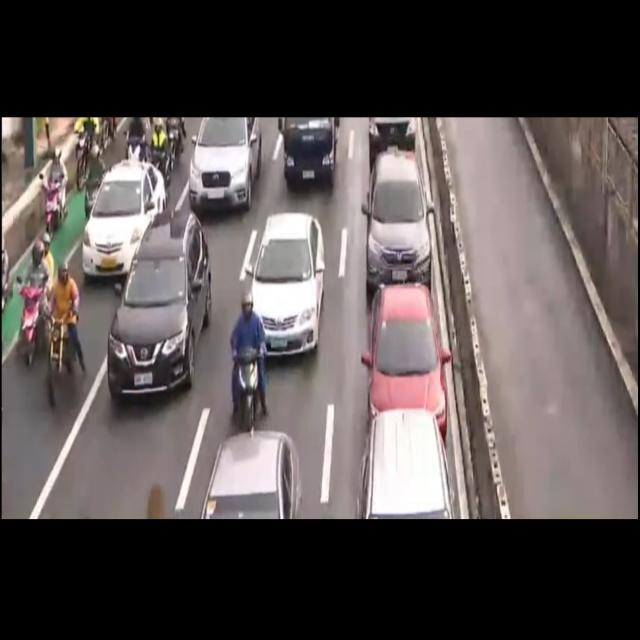Motorcycle: (44, 253, 88, 409), (226, 285, 265, 431), (21, 230, 56, 362), (34, 136, 72, 236), (79, 127, 105, 227), (147, 110, 171, 192)
SUV: (118, 215, 209, 385), (358, 404, 454, 520), (364, 148, 434, 277), (183, 119, 265, 222)
Sedan: (364, 290, 454, 427), (249, 214, 326, 362), (79, 162, 168, 277), (208, 430, 308, 520)
Truck: (276, 117, 342, 196)
